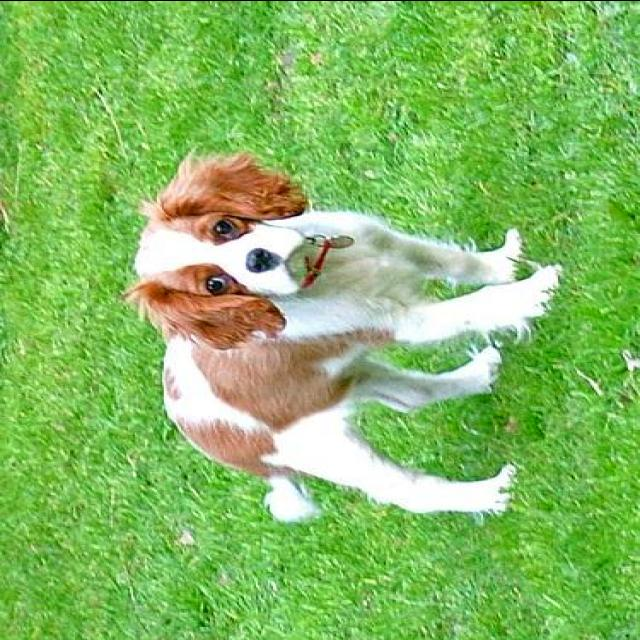blenheim_spaniel: (121, 147, 565, 525)
